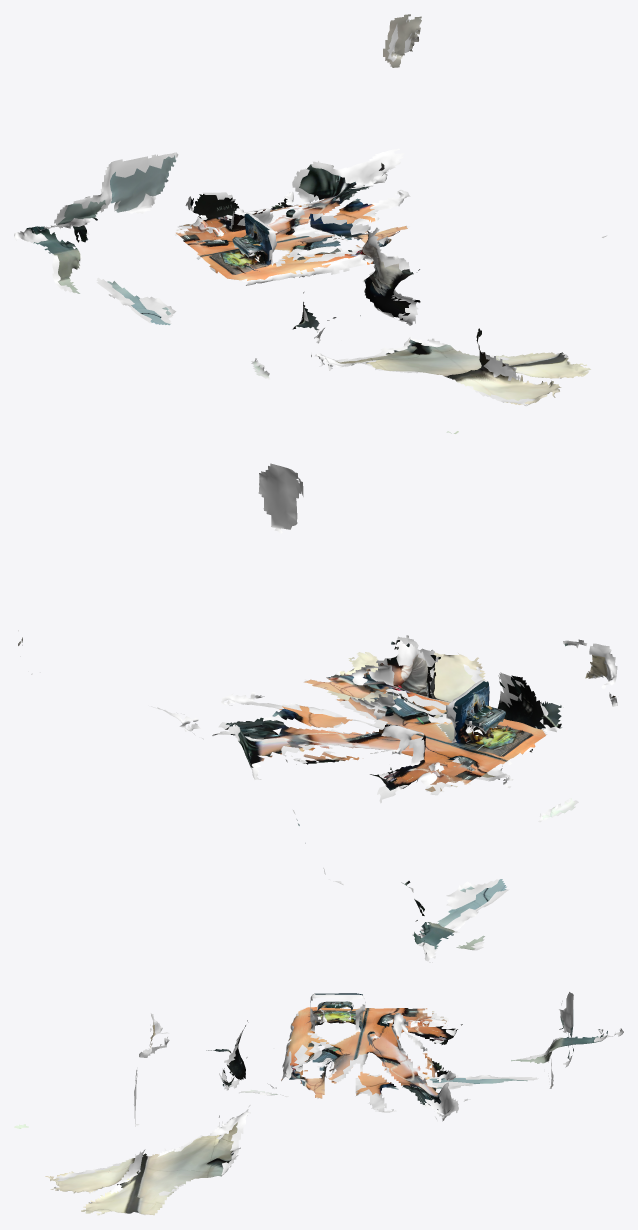
3 renders of one model, top to bottom at view 1: azimuth 30°, elevation 25°; view 2: azimuth 150°, elevation 25°; view 3: azimuth 270°, elevation 25°, orthographic. The views are drawn at different scales.
Visible parts, largest first — view 1: texture_0, object 1, texture_1; view 2: texture_0, object 1, texture_1; view 3: texture_0, object 1, texture_1.
Boxes of the visible parts, x1,y1,x2,y2 form: texture_0: (26, 48, 586, 433); object 1: (14, 18, 606, 406); texture_1: (150, 14, 590, 376); texture_0: (215, 640, 615, 949); object 1: (31, 463, 617, 962); texture_1: (18, 630, 607, 843); texture_0: (14, 993, 607, 1215); object 1: (52, 992, 623, 1215); texture_1: (81, 993, 569, 1213).
Size of the model in its own units: 3.74 by 1.81 by 5.11.
Materials: 3 (2 with a texture image).
